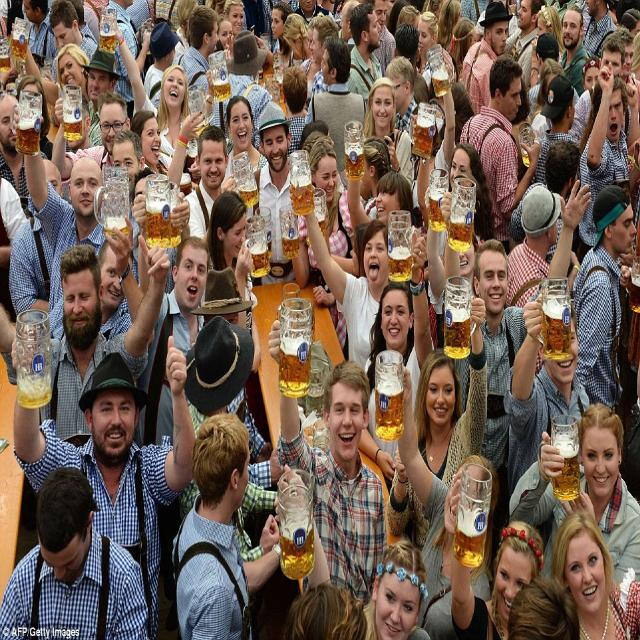body: (0, 0, 640, 352), (10, 323, 197, 640), (438, 179, 593, 472), (274, 518, 640, 640), (0, 232, 172, 443), (267, 316, 391, 608), (0, 457, 153, 640), (11, 97, 139, 313), (164, 409, 283, 640), (384, 295, 489, 556), (507, 402, 640, 598), (190, 265, 288, 489), (385, 354, 491, 557), (288, 174, 392, 375), (356, 228, 436, 483), (408, 113, 491, 353), (503, 285, 591, 499), (284, 137, 365, 361), (456, 52, 543, 260), (99, 11, 202, 186), (132, 224, 212, 447), (571, 181, 640, 414), (220, 100, 297, 288), (412, 45, 457, 349), (203, 188, 258, 431), (504, 186, 566, 376), (576, 56, 631, 264), (504, 135, 584, 271), (532, 72, 586, 266), (303, 34, 367, 190), (421, 185, 478, 351), (562, 35, 640, 149), (200, 66, 268, 190), (49, 90, 132, 187), (212, 29, 274, 155), (179, 122, 239, 246), (173, 5, 229, 130), (48, 0, 98, 132), (100, 0, 154, 122), (128, 109, 208, 191), (461, 0, 516, 117), (361, 76, 415, 193), (0, 91, 49, 218), (527, 30, 581, 118), (303, 15, 341, 126), (502, 0, 548, 91), (345, 1, 383, 107), (142, 20, 181, 109), (556, 5, 592, 101), (530, 4, 566, 90), (10, 0, 57, 65), (609, 26, 640, 119), (384, 54, 419, 136), (253, 0, 294, 68), (281, 63, 310, 159), (582, 0, 618, 59), (282, 12, 312, 60), (223, 0, 244, 36)
